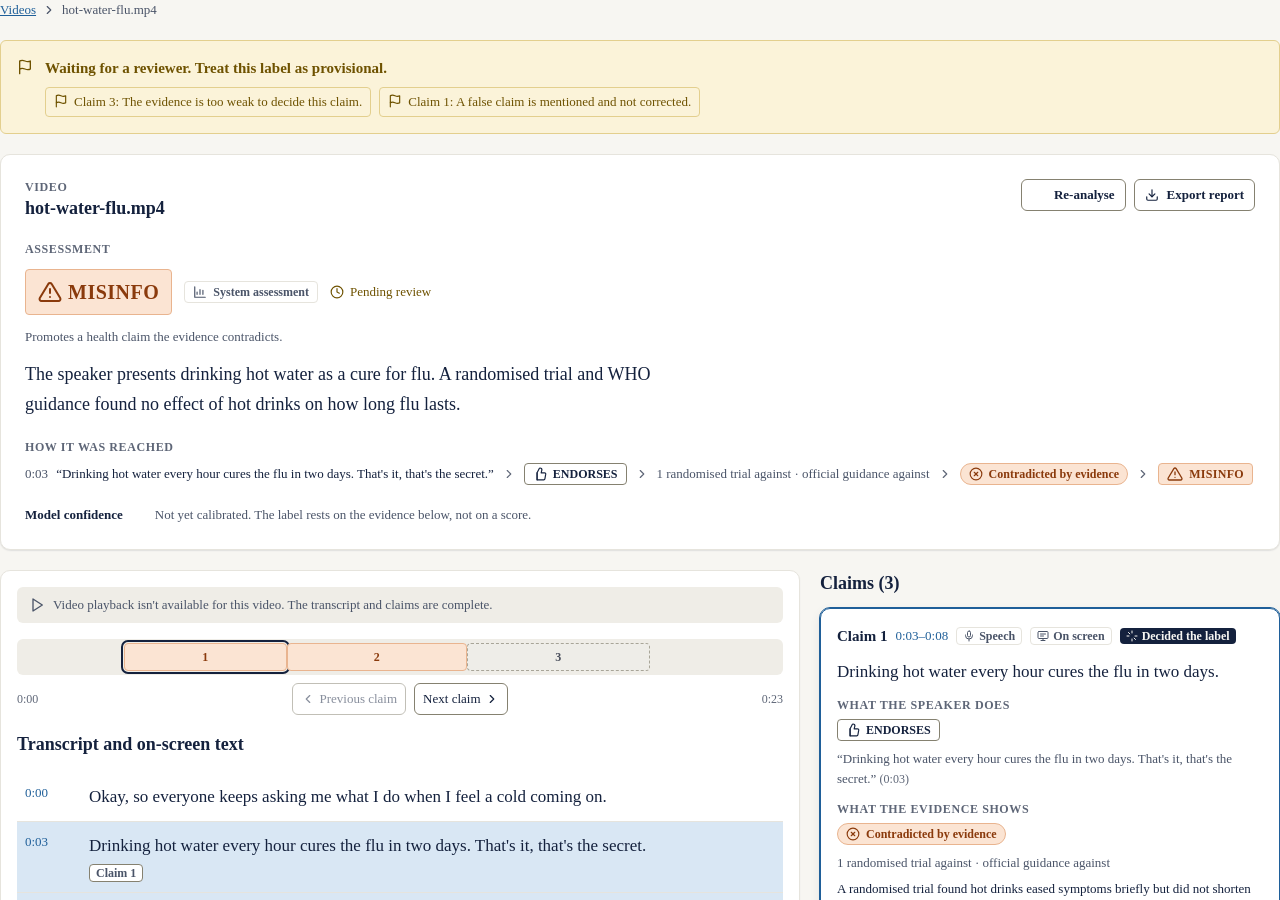
Re-analyse button and dialog (T55) › opens a dialog naming the cost, sends the optional reason and follows the new job
The image size is (1280, 900).
Click the button "Re-analyse" at [1073, 195], box [1021, 179, 1126, 211]
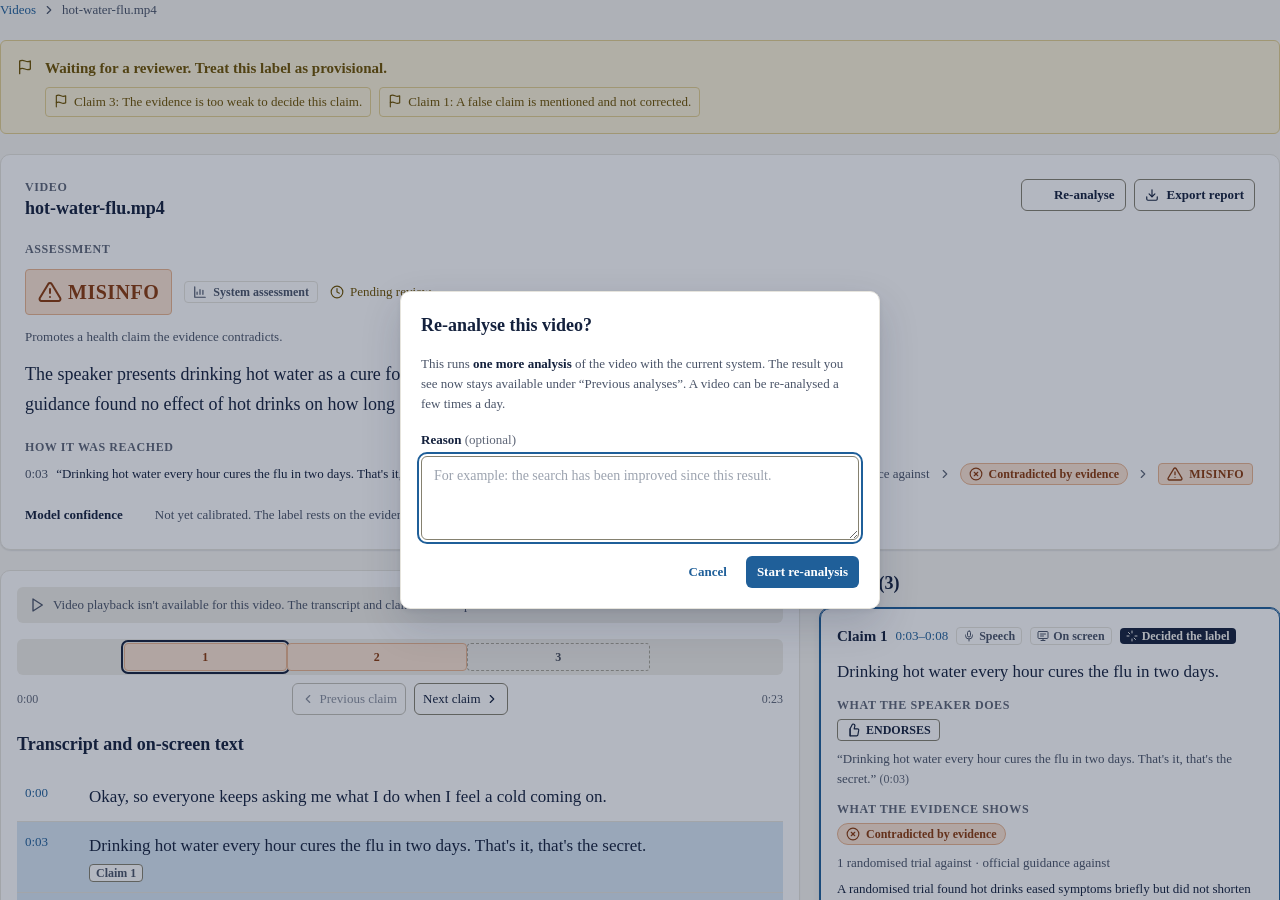
expect the dialog "Re-analyse this video?" shows "one more analysis": met, box [473, 356, 572, 371]
Type "search improved" into the text box labelled "Reason (optional)" at [640, 498], box [421, 456, 859, 540]
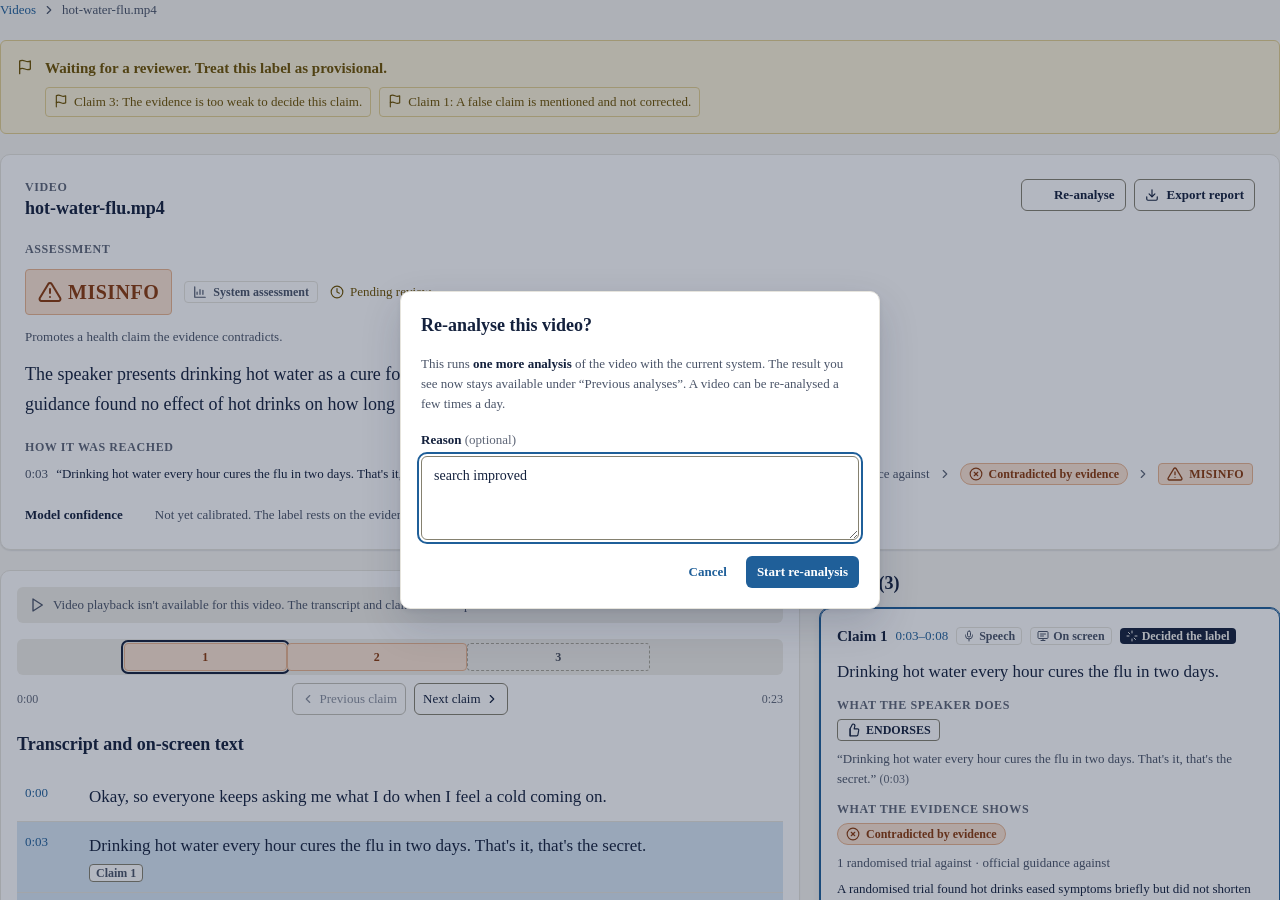
Click the button "Start re-analysis" at [802, 572], box [746, 556, 859, 588]
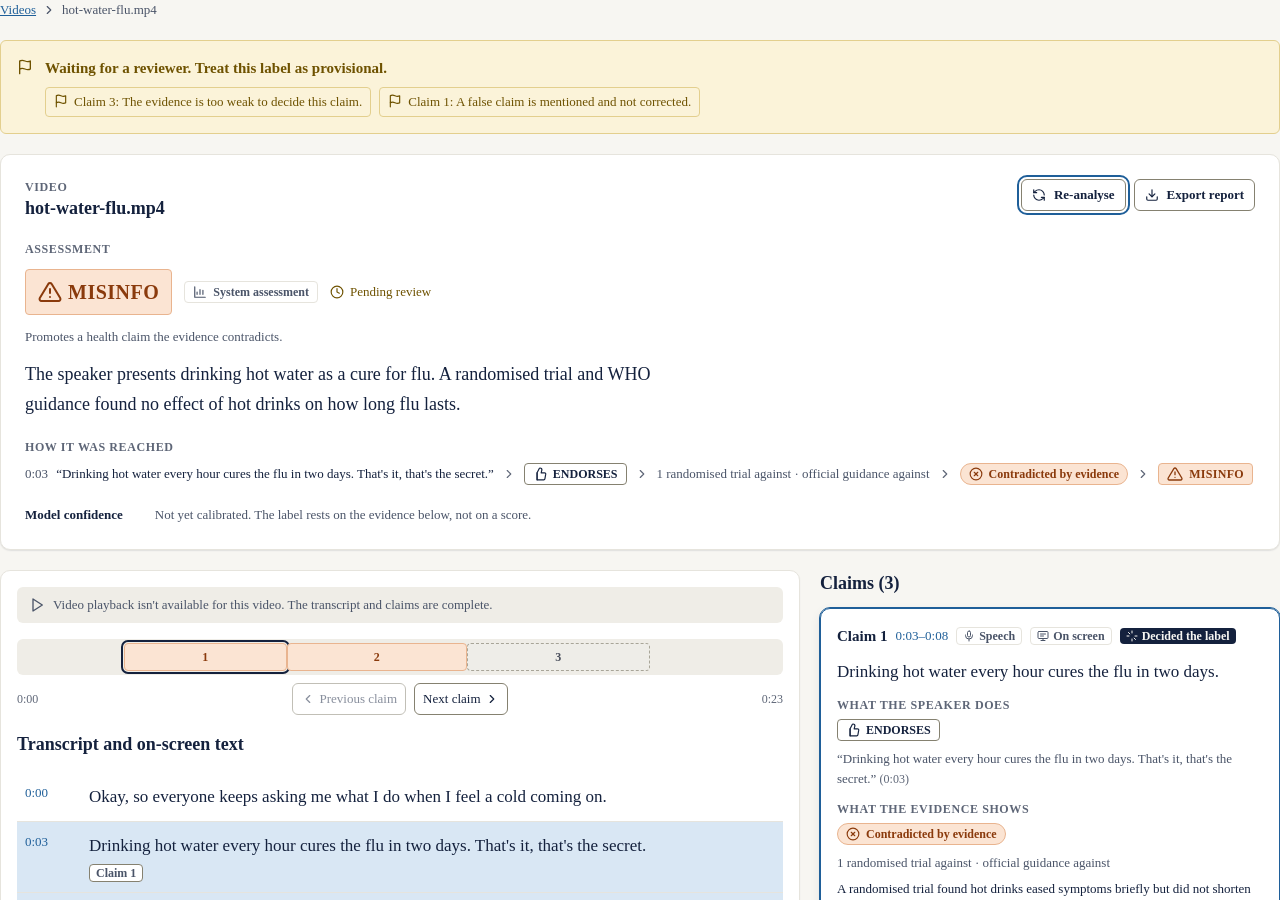
expect the dialog is gone: met
